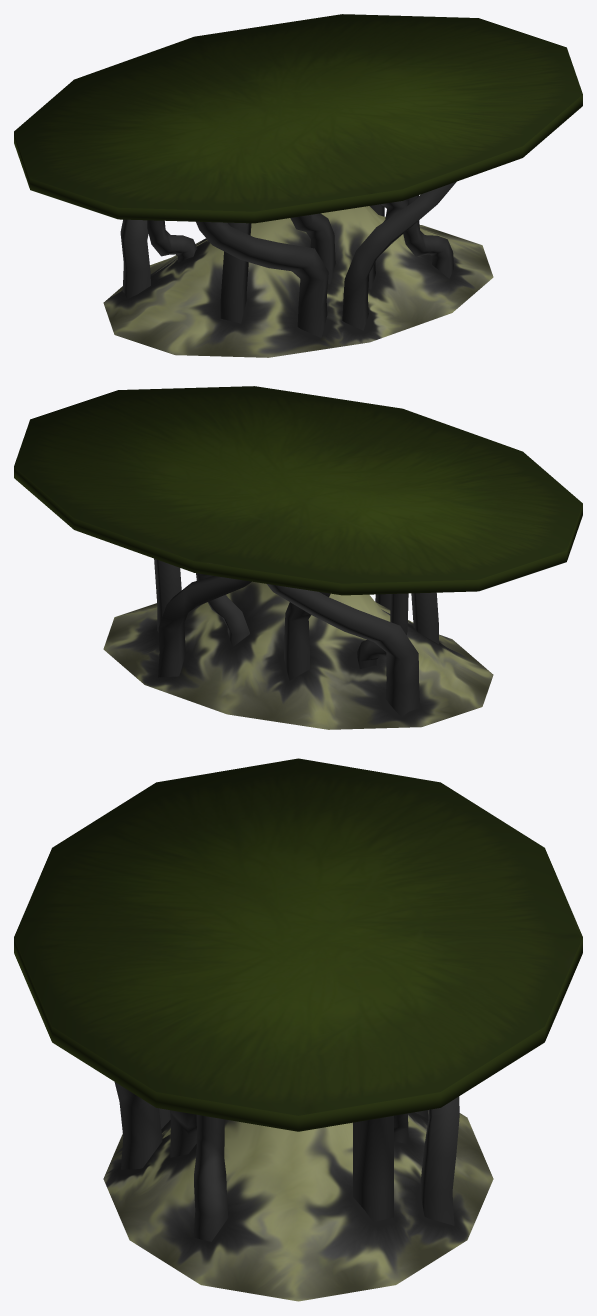
Rendered from table.fbx.
3 renders of one model, top to bottom at view 1: azimuth 30°, elevation 25°; view 2: azimuth 150°, elevation 25°; view 3: azimuth 270°, elevation 25°, orthographic. The views are drawn at different scales.
Visible parts, largest first — view 1: table; view 2: table; view 3: table.
Part boxes in pixels (left/top/right/bottom): table: left=14, top=14, right=582, bottom=357; table: left=14, top=386, right=582, bottom=729; table: left=14, top=758, right=582, bottom=1301.
Bounding box in the file's own units: 2883 × 909 × 1940.
2 materials, 2 textured.
